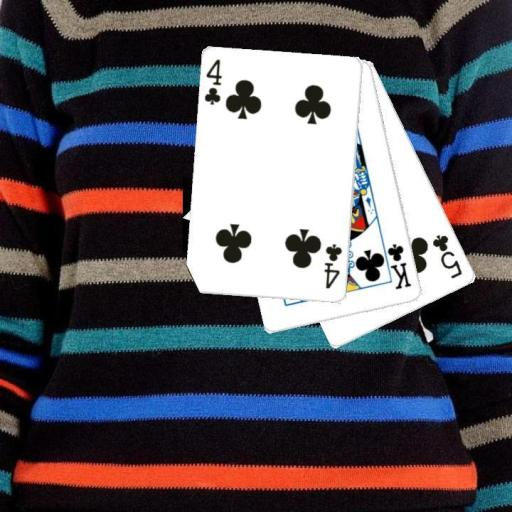4C: (202, 57, 224, 108), (322, 241, 344, 291)
5C: (430, 231, 465, 280)
KC: (378, 238, 413, 291)
